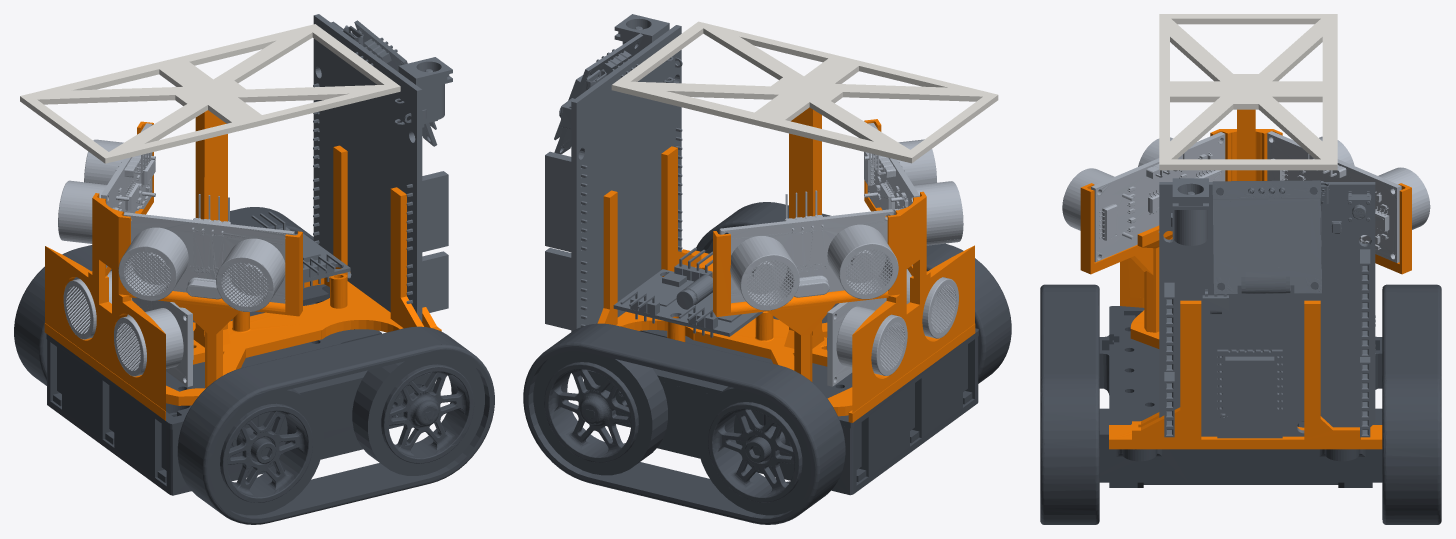
The model's file is robot-arena--assembly.glb.
3 views of the same model, side by side, from view 1: azimuth 30°, elevation 25°; view 2: azimuth 150°, elevation 25°; view 3: azimuth 270°, elevation 25° (orthographic). The views are drawn at different scales.
Visible parts, largest first — view 1: bodytry3-1; view 2: bodytry3-1; view 3: bodytry3-1.
Part boxes in pixels (x1,y1,x2,y2): bodytry3-1: (14, 14, 494, 524); bodytry3-1: (523, 14, 1011, 524); bodytry3-1: (1040, 14, 1441, 524).
Bounding box in the file's own units: 0.1077 × 0.1001 × 0.099.
Materials: 1 (1 with a texture image).
